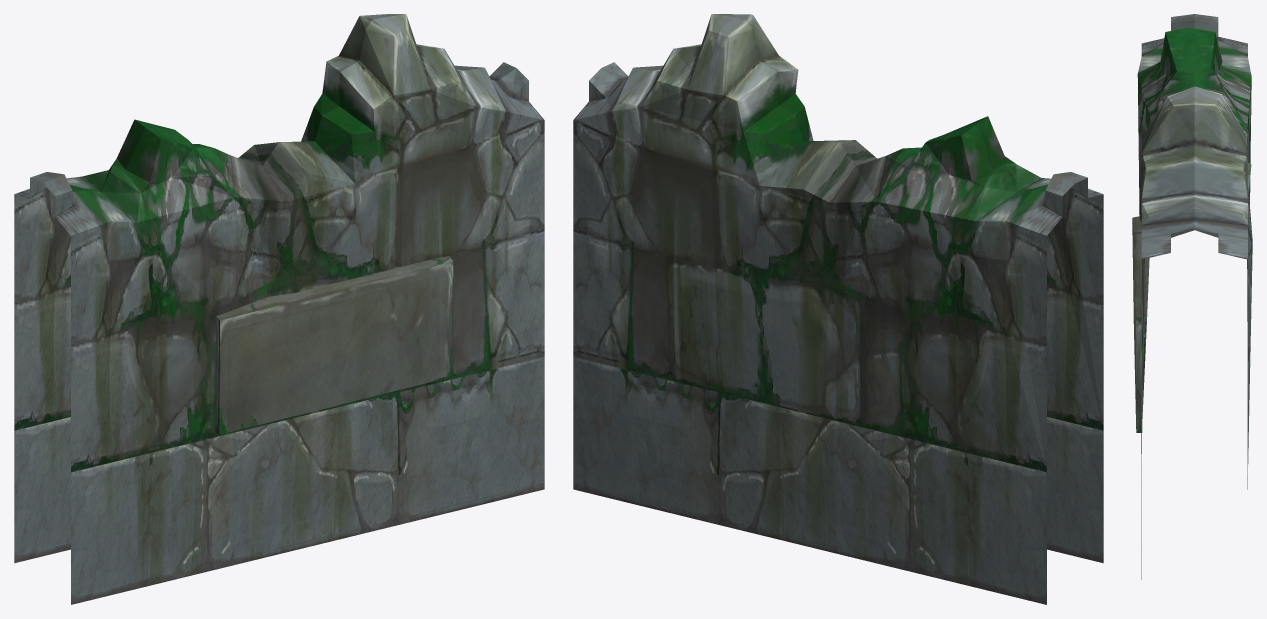
Rendered from stemple_half_straight_shadow_07.fbx.
The picture shows the model from 3 angles, left to right: view 1: azimuth 30°, elevation 25°; view 2: azimuth 150°, elevation 25°; view 3: azimuth 270°, elevation 25°; orthographic projection. The views are drawn at different scales.
Parts seen in each view (by area): view 1: obj2.019; view 2: obj2.019; view 3: obj2.019.
Boxes of the visible parts, bbox=[...] form: obj2.019: bbox=[14, 14, 544, 604]; obj2.019: bbox=[573, 14, 1103, 604]; obj2.019: bbox=[1132, 14, 1252, 579].
Bounding box in the file's own units: 4 × 3.91 × 0.9424.
